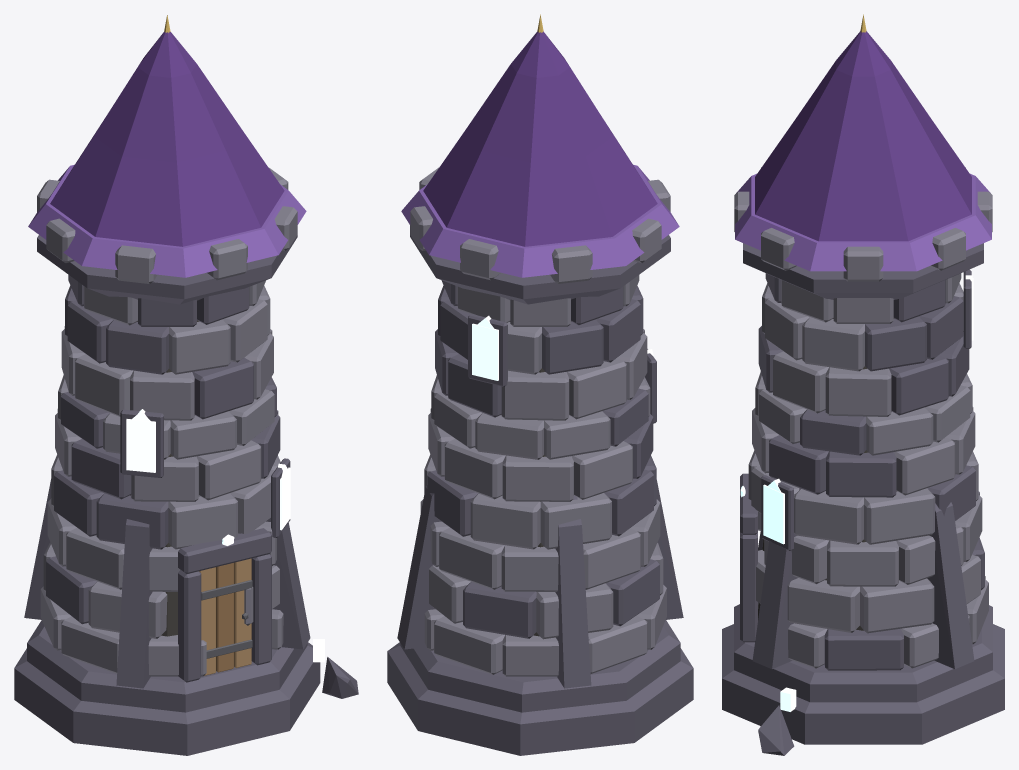
The model's file is mage_tower_1.glb.
3 views of the same model, side by side, from view 1: azimuth 30°, elevation 25°; view 2: azimuth 150°, elevation 25°; view 3: azimuth 270°, elevation 25° (orthographic).
Parts seen in each view (by area): view 1: MageTower; view 2: MageTower; view 3: MageTower.
Boxes of the visible parts, left/top/right/bottom form: MageTower: left=14, top=15, right=358, bottom=755; MageTower: left=387, top=14, right=693, bottom=755; MageTower: left=722, top=14, right=1004, bottom=755.
Size of the model in its own units: 3.15 by 7.5 by 2.86.
